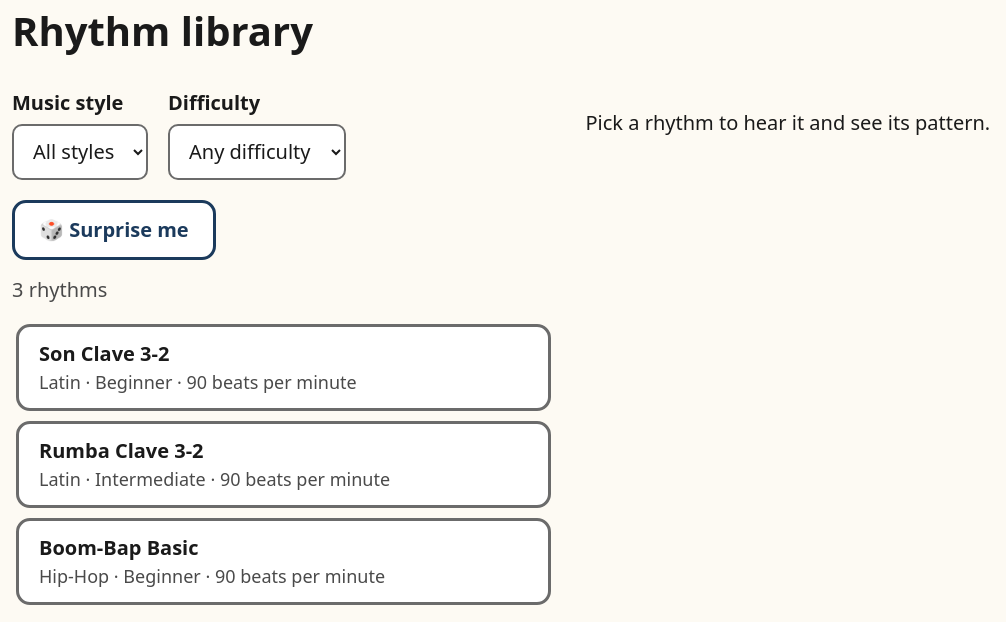
Test: filters by style and difficulty
The image size is (1006, 622).
Expected: the text "Son Clave 3-2" is shown, [39, 339, 169, 369]
Step 1. Select "Latin" in the dropdown labelled "Music style" → (80, 152), box [12, 124, 148, 180]
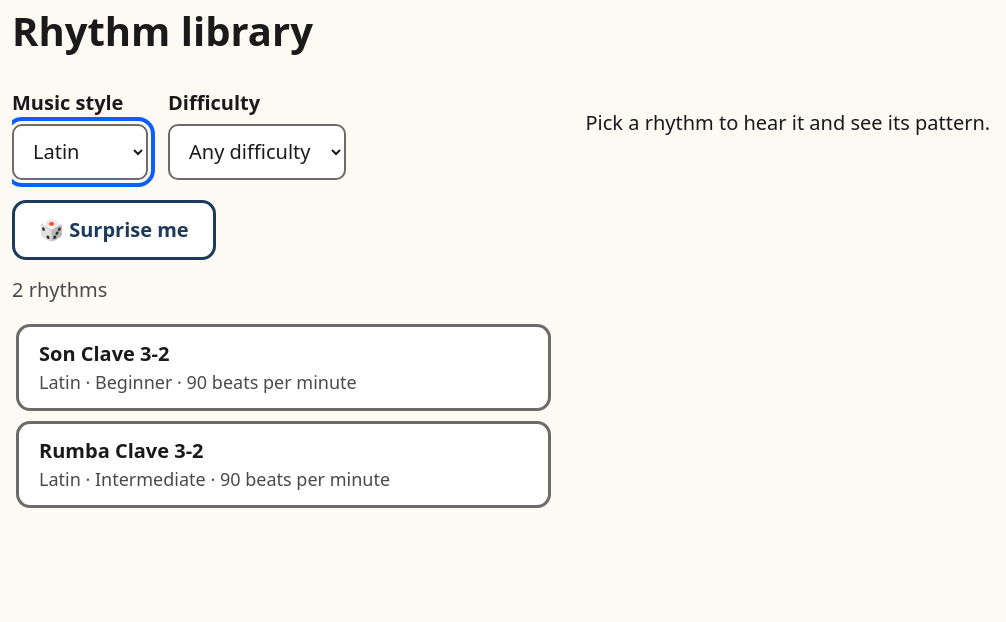
Result: the button "Boom-Bap Basic" is gone
Step 2. Select "Beginner" in the dropdown labelled "Difficulty" → (257, 152), box [168, 124, 346, 180]
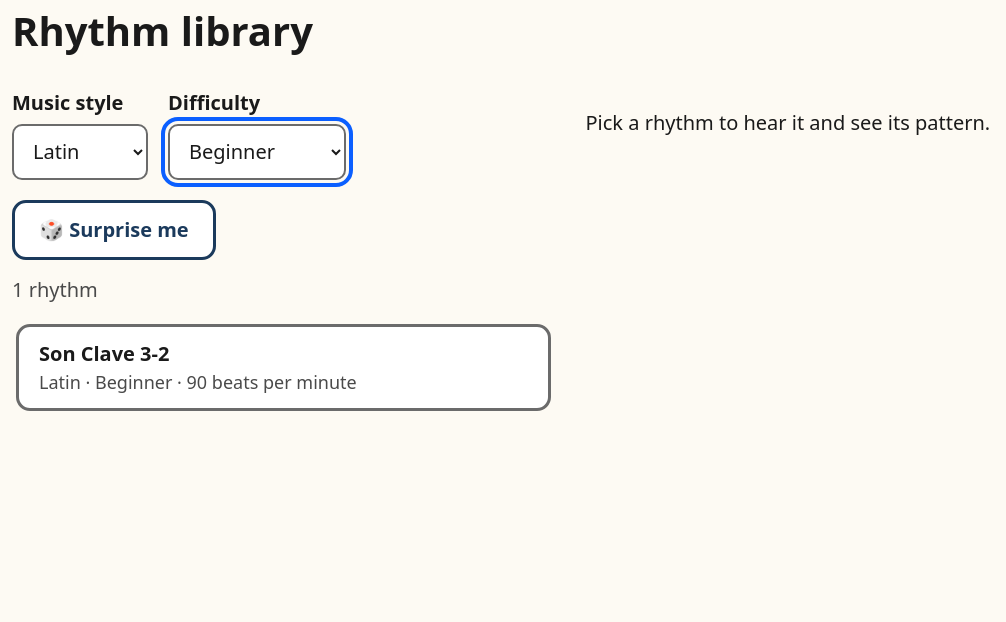
Result: the message reads "1 rhythm" at [12, 276, 98, 303]
